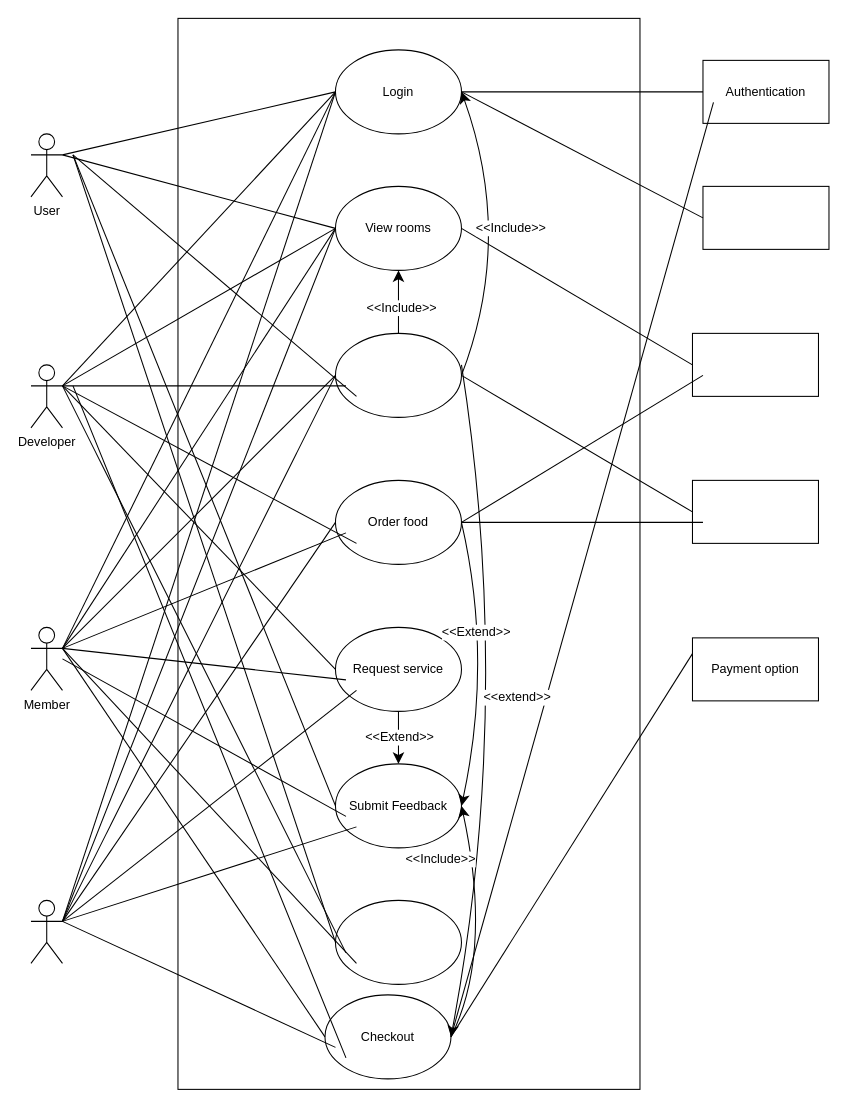
Some shapes in this 847 by 1108 pixel diagram are drawn without their labels. Each missing label, with the box of its shape:
Book rooms: (334, 332, 461, 417)
Category: (691, 332, 818, 396)
Charges: (691, 479, 818, 543)
Guest: (30, 899, 62, 963)
Identity recognizer: (702, 185, 829, 249)
View dashboard: (334, 899, 461, 984)
